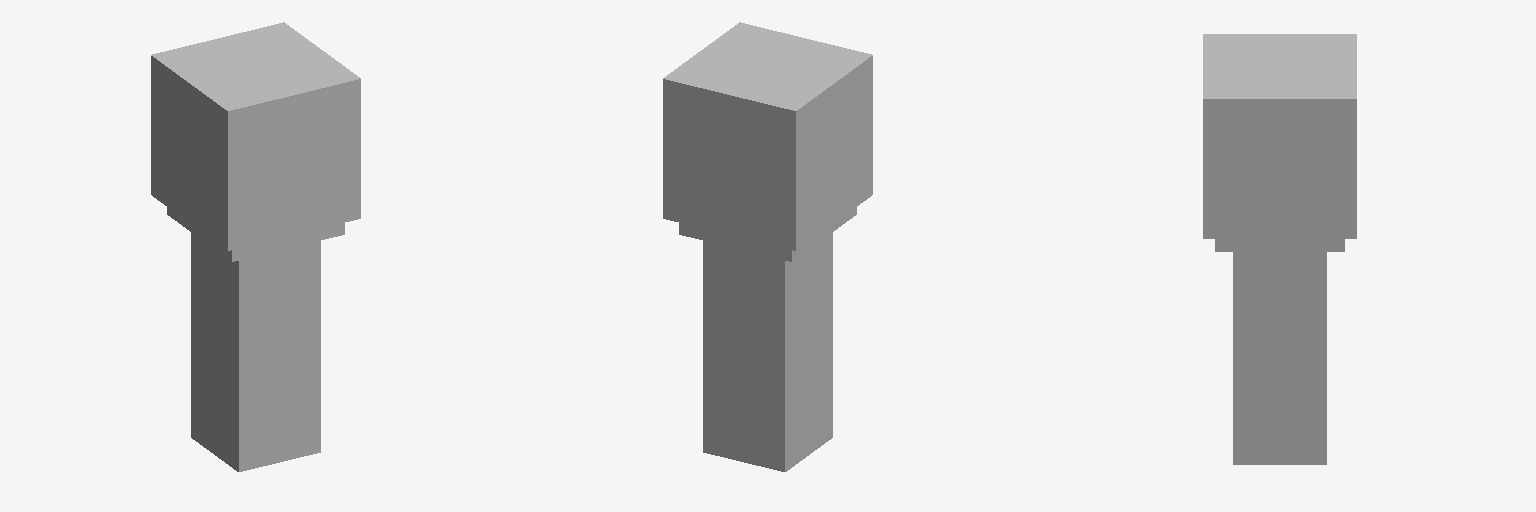
Rendered from cubey.obj.
3 views of the same model, side by side, from view 1: azimuth 30°, elevation 25°; view 2: azimuth 150°, elevation 25°; view 3: azimuth 270°, elevation 25° (orthographic).
Parts seen in each view (by area): view 1: Cube; view 2: Cube; view 3: Cube.
Part boxes in pixels (left/top/right/bottom): Cube: left=151, top=22, right=360, bottom=471; Cube: left=663, top=22, right=872, bottom=471; Cube: left=1203, top=34, right=1356, bottom=464.
Bounding box in the file's own units: 2 × 5.41 × 2.